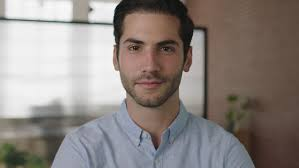middle_eastern_male: (115, 4, 191, 106)
